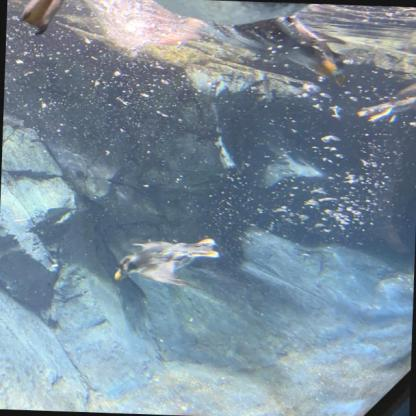puffin: (16, 0, 346, 84), (113, 235, 219, 288), (358, 70, 416, 126)
